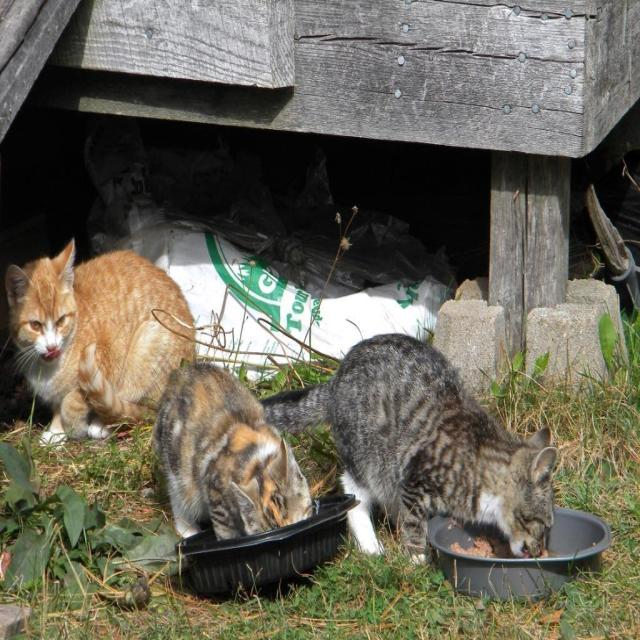cat: (262, 334, 556, 561), (6, 241, 195, 443), (154, 362, 312, 539)
